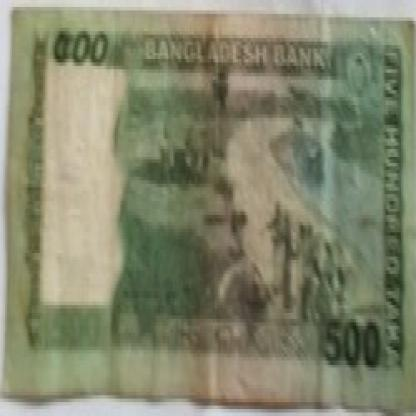500 taka: (42, 24, 126, 73)
currency: (5, 11, 414, 413)
